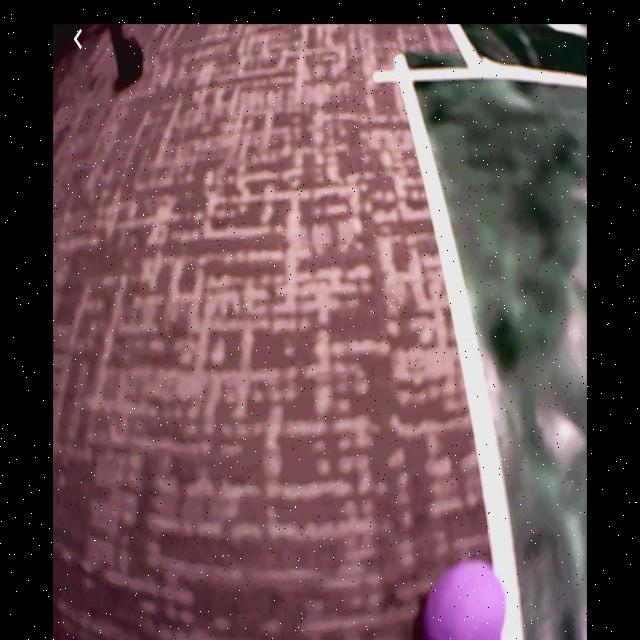ball: (422, 559, 508, 640)
